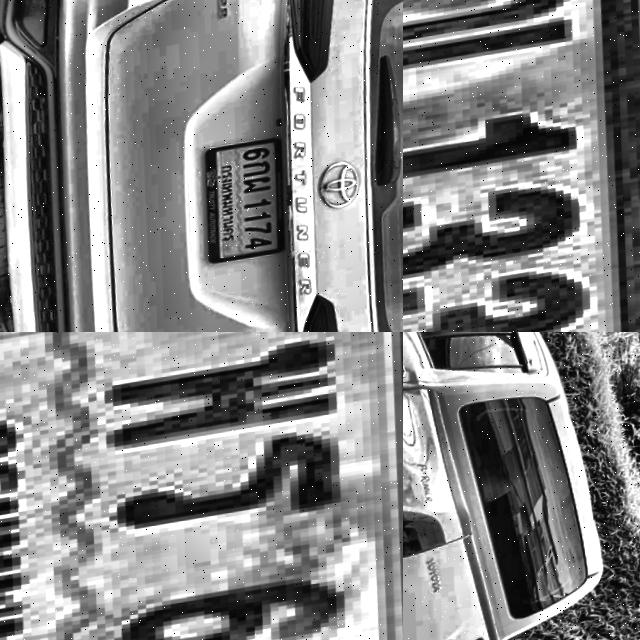license-plate: (0, 332, 403, 640), (403, 0, 640, 332), (196, 136, 303, 272)
